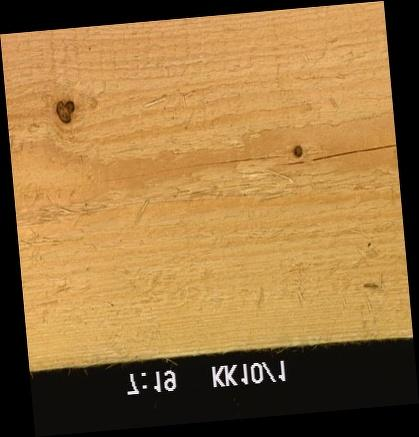dry_knot: (54, 99, 76, 125), (292, 146, 302, 158)
split: (103, 160, 282, 177), (309, 146, 396, 158)
